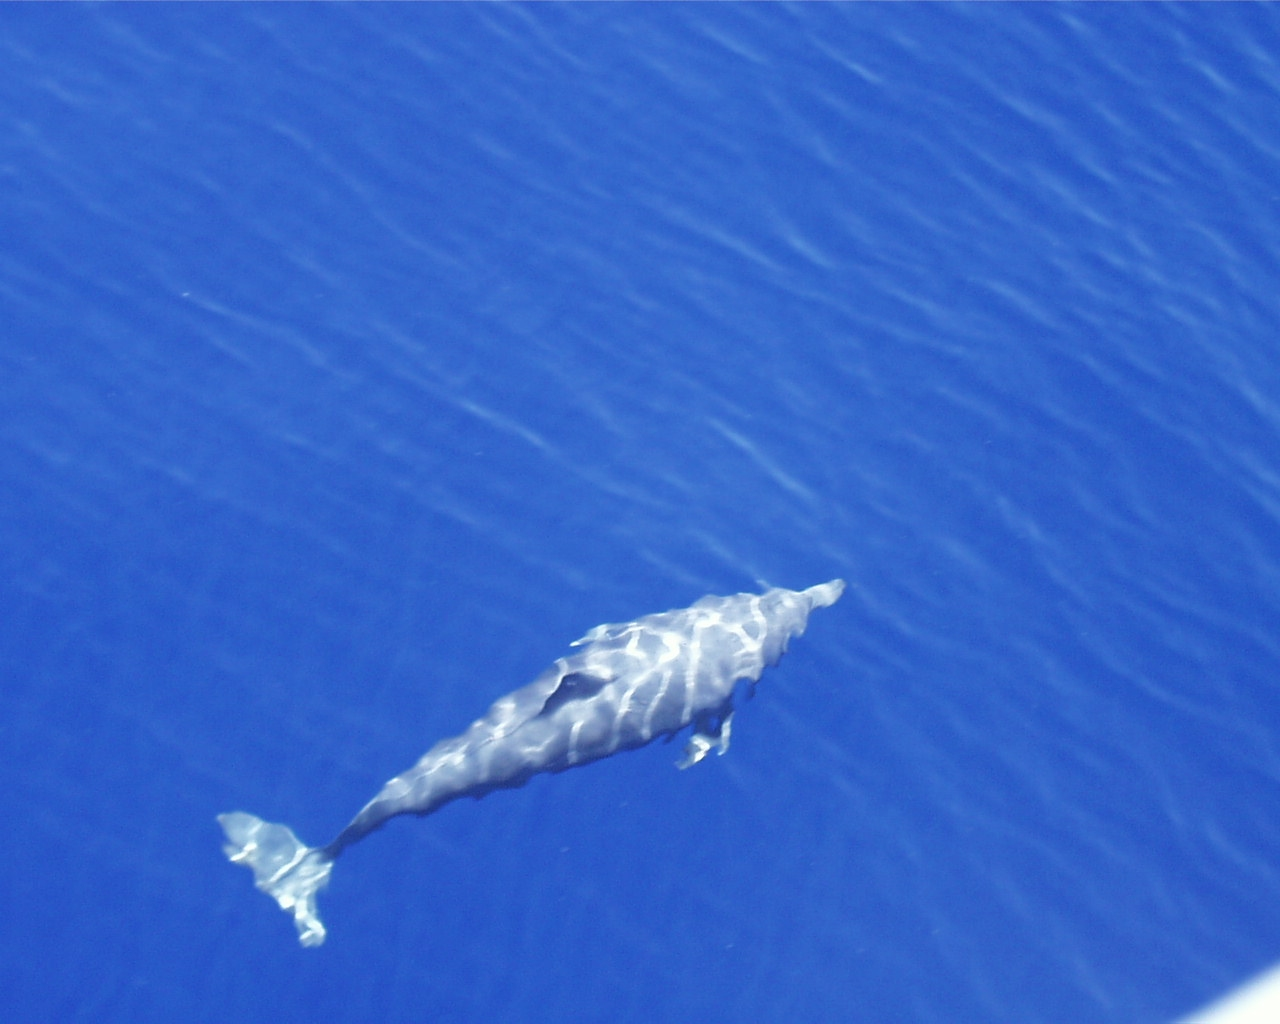dolphin: (214, 571, 846, 949)
